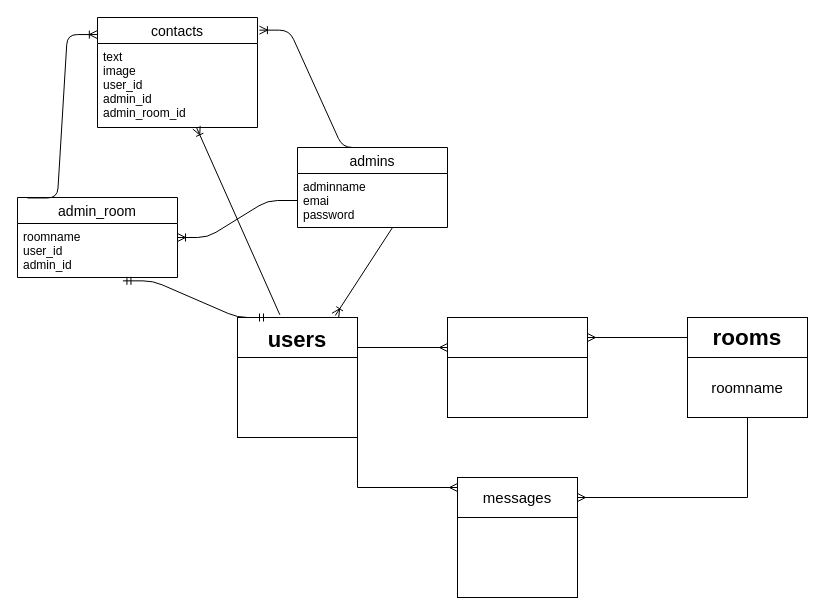
This 825x615 diagram has some shape labels left out. The centre of each missing label's shape, as x and y in pixels:
room_users: [517,337]
text user_id room_id image: [517,557]
user_id room_id: [517,387]
username emai password admin_id: [297,397]
